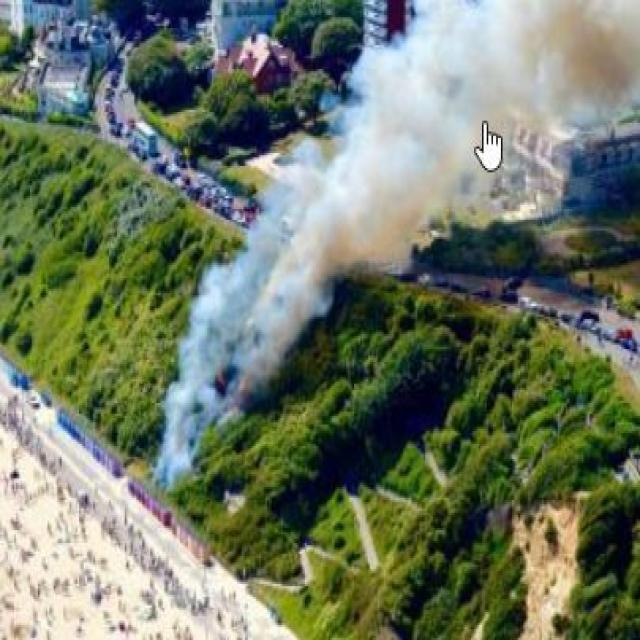Smoke: (155, 19, 617, 483)
